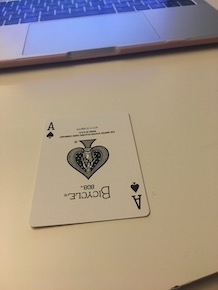AceOfSpades: (24, 109, 153, 231)
